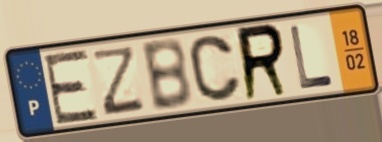B: (138, 35, 195, 114)
C: (186, 33, 244, 105)
E: (41, 46, 100, 127)
L: (287, 23, 336, 91)
R: (235, 21, 292, 105)
Z: (92, 43, 146, 118)
